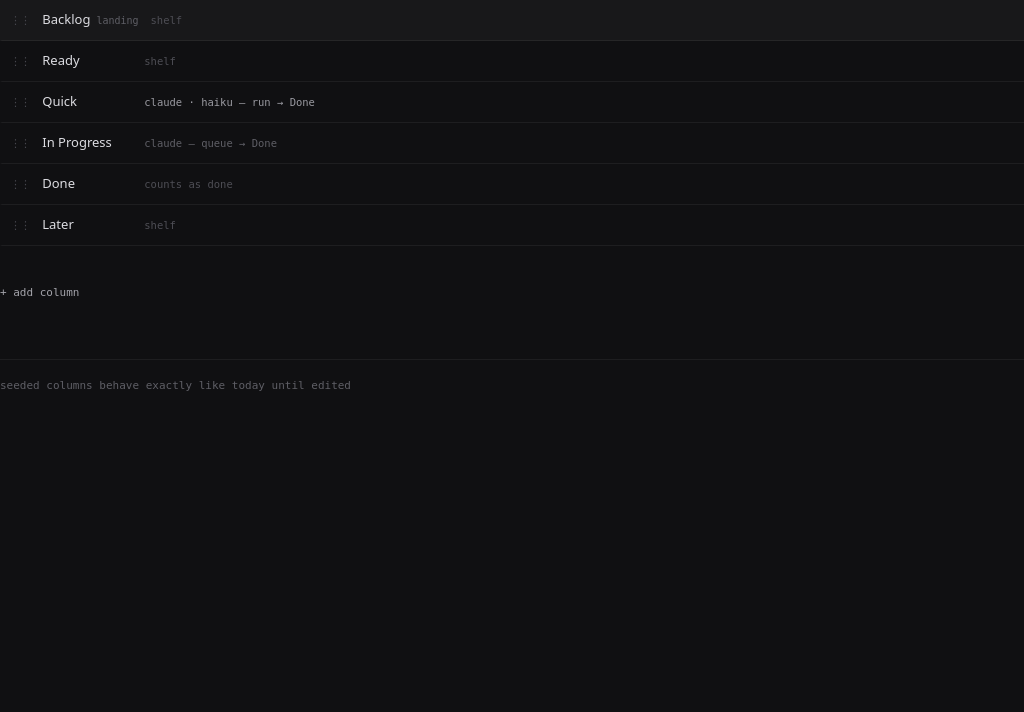
Test case: add column › appends a shelf named New column and expands it for rename
Check: the text "Backlog" is shown, box [42,10,90,28]
Check: the text "New column" is not shown
What coordinates should you click on to do the following:
click the button "+ add column"
I would click on:
 (40, 288)
Its box is [0,276,80,299].
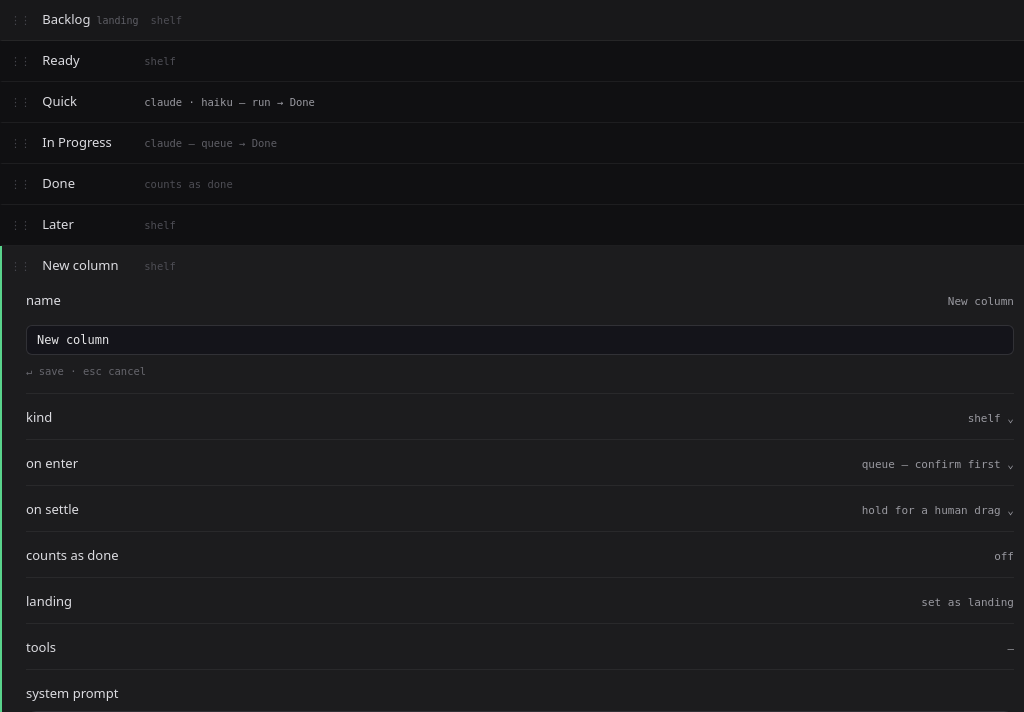
Check: the field holds "New column", box [26,325,1014,355]
